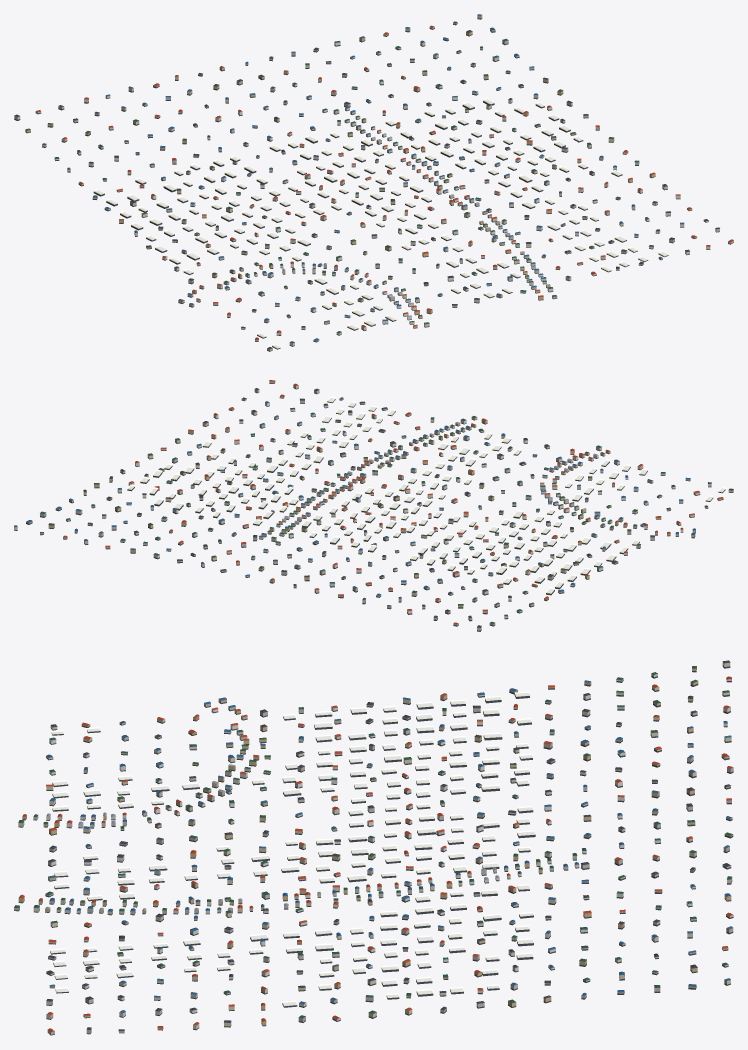
Rendered from buildings_T_E00_N04.glb.
3 renders of one model, top to bottom at view 1: azimuth 30°, elevation 25°; view 2: azimuth 150°, elevation 25°; view 3: azimuth 270°, elevation 25°, orthographic. The views are drawn at different scales.
Parts seen in each view (by area): view 1: T_E00_N04_slope_seating_foundations, T_E00_N04_roofs_agri_greenhouse_arch, T_E00_N04_walls_wall_pastel_sand_gray, T_E00_N04_walls_wall_french_ochre_villa, T_E00_N04_walls_wall_modern_warm_white, T_E00_N04_walls_wall_dalat_cream_stucco, T_E00_N04_roofs_roof_highland_blue_gable, T_E00_N04_roofs_roof_terracotta_gable, T_E00_N04_roofs_roof_pine_green_hip, T_E00_N04_roofs_roof_slate_French_villa_hip; view 2: T_E00_N04_slope_seating_foundations, T_E00_N04_roofs_agri_greenhouse_arch, T_E00_N04_walls_wall_pastel_sand_gray, T_E00_N04_walls_wall_french_ochre_villa, T_E00_N04_walls_wall_dalat_cream_stucco, T_E00_N04_walls_wall_modern_warm_white, T_E00_N04_roofs_roof_highland_blue_gable, T_E00_N04_roofs_roof_terracotta_gable, T_E00_N04_roofs_roof_pine_green_hip, T_E00_N04_roofs_roof_slate_French_villa_hip; view 3: T_E00_N04_slope_seating_foundations, T_E00_N04_roofs_agri_greenhouse_arch, T_E00_N04_walls_wall_pastel_sand_gray, T_E00_N04_walls_wall_french_ochre_villa, T_E00_N04_walls_wall_modern_warm_white, T_E00_N04_walls_wall_dalat_cream_stucco, T_E00_N04_roofs_roof_highland_blue_gable, T_E00_N04_roofs_roof_terracotta_gable, T_E00_N04_roofs_roof_pine_green_hip, T_E00_N04_roofs_roof_slate_French_villa_hip.
Part boxes in pixels (<box>): T_E00_N04_slope_seating_foundations: <box>14,18,733,351</box>; T_E00_N04_roofs_agri_greenhouse_arch: <box>93,98,668,348</box>; T_E00_N04_walls_wall_pastel_sand_gray: <box>94,27,733,322</box>; T_E00_N04_walls_wall_french_ochre_villa: <box>25,29,692,341</box>; T_E00_N04_walls_wall_modern_warm_white: <box>35,42,708,345</box>; T_E00_N04_walls_wall_dalat_cream_stucco: <box>14,15,710,350</box>; T_E00_N04_roofs_roof_highland_blue_gable: <box>67,14,684,340</box>; T_E00_N04_roofs_roof_terracotta_gable: <box>36,25,733,340</box>; T_E00_N04_roofs_roof_pine_green_hip: <box>25,21,639,343</box>; T_E00_N04_roofs_roof_slate_French_villa_hip: <box>14,30,719,349</box>; T_E00_N04_slope_seating_foundations: <box>14,382,733,631</box>; T_E00_N04_roofs_agri_greenhouse_arch: <box>127,396,725,593</box>; T_E00_N04_walls_wall_pastel_sand_gray: <box>40,381,695,608</box>; T_E00_N04_walls_wall_french_ochre_villa: <box>26,398,723,625</box>; T_E00_N04_walls_wall_dalat_cream_stucco: <box>14,385,733,630</box>; T_E00_N04_walls_wall_modern_warm_white: <box>66,399,711,625</box>; T_E00_N04_roofs_roof_highland_blue_gable: <box>14,397,695,606</box>; T_E00_N04_roofs_roof_terracotta_gable: <box>63,380,723,624</box>; T_E00_N04_roofs_roof_pine_green_hip: <box>40,416,711,623</box>; T_E00_N04_roofs_roof_slate_French_villa_hip: <box>48,388,733,627</box>; T_E00_N04_slope_seating_foundations: <box>14,665,733,1035</box>; T_E00_N04_roofs_agri_greenhouse_arch: <box>50,691,535,1006</box>; T_E00_N04_walls_wall_pastel_sand_gray: <box>14,703,733,1034</box>; T_E00_N04_walls_wall_french_ochre_villa: <box>18,667,733,1029</box>; T_E00_N04_walls_wall_modern_warm_white: <box>33,673,732,1032</box>; T_E00_N04_walls_wall_dalat_cream_stucco: <box>18,662,733,1026</box>; T_E00_N04_roofs_roof_highland_blue_gable: <box>46,680,732,1013</box>; T_E00_N04_roofs_roof_terracotta_gable: <box>19,676,733,1032</box>; T_E00_N04_roofs_roof_pine_green_hip: <box>14,666,732,1018</box>; T_E00_N04_roofs_roof_slate_French_villa_hip: <box>46,660,730,1031</box>.
Size of the model in its own units: 1877 by 201 by 1781.
